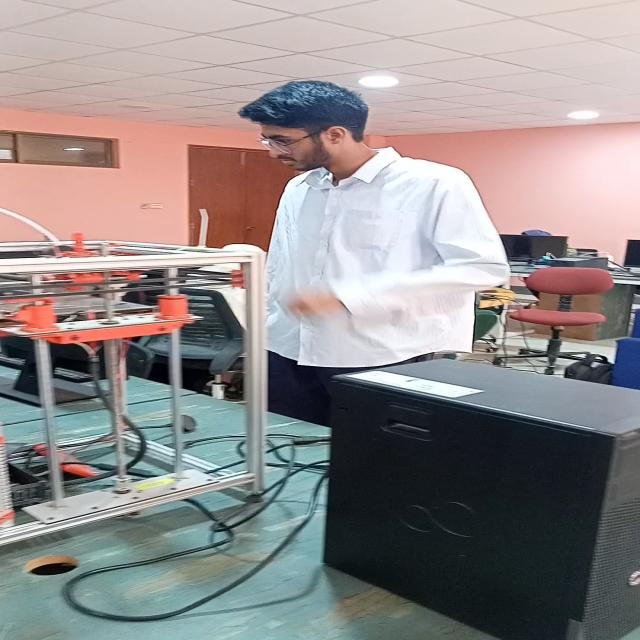dress: (266, 144, 518, 368)
glasses: (256, 136, 313, 155)
